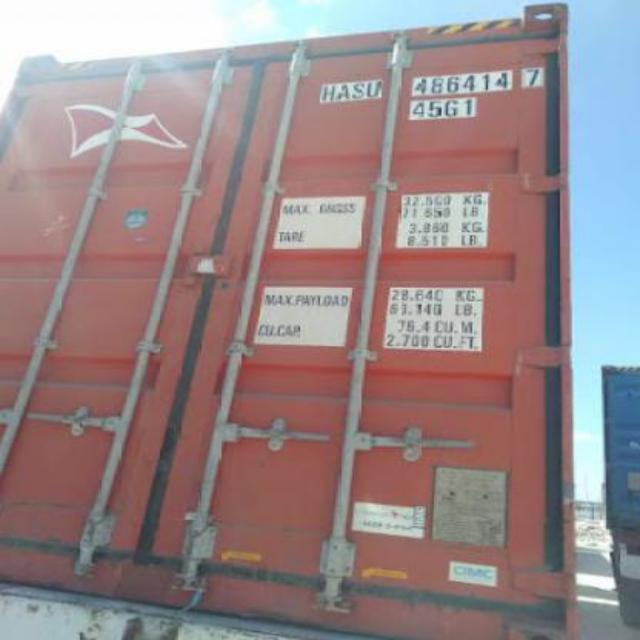1: (480, 72, 492, 96)
4: (460, 68, 478, 98), (494, 72, 510, 92), (412, 74, 424, 96)
6: (444, 74, 458, 96)
7: (522, 64, 546, 92)
8: (428, 74, 448, 95)
A: (334, 82, 352, 105)
H: (322, 80, 336, 106)
S: (352, 78, 370, 104)
U: (364, 80, 382, 102)
